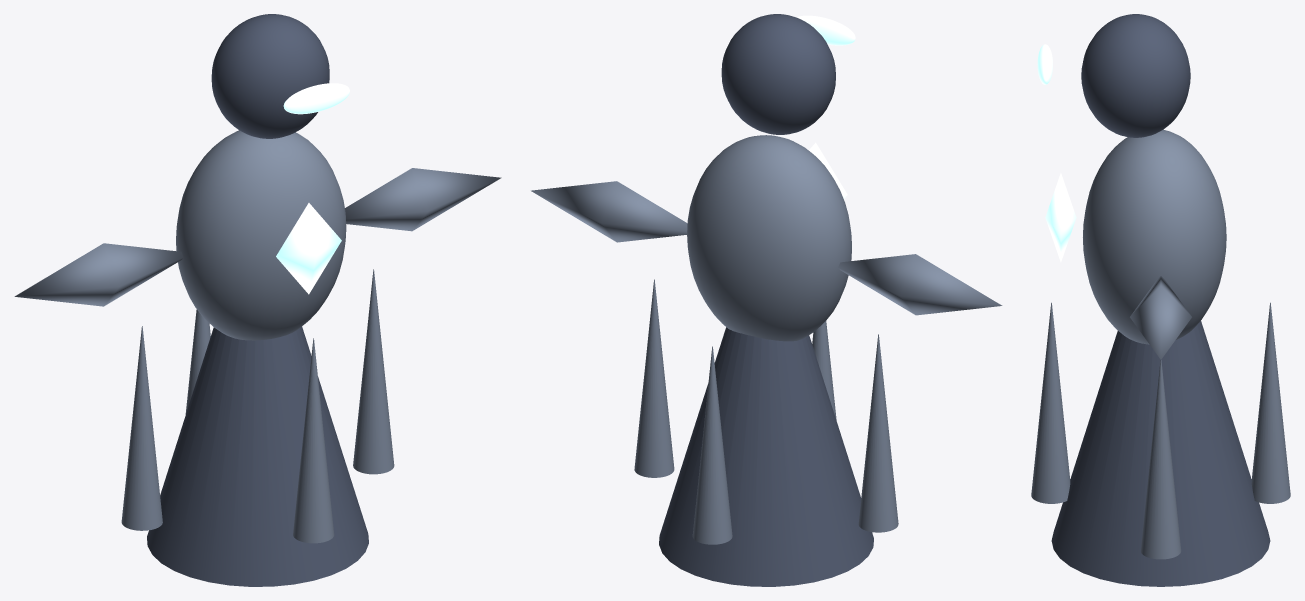
File: shadow-creature.glb
3 renders of one model, left to right at view 1: azimuth 30°, elevation 25°; view 2: azimuth 150°, elevation 25°; view 3: azimuth 270°, elevation 25°, orthographic. The views are drawn at different scales.
Parts seen in each view (by area): view 1: shroud, torso, head, tendril-1, tendril1, SpectralTendril0, SpectralTendril2, SpectralTendril1, SoulCore, eyes, SpectralTendril3; view 2: shroud, torso, head, tendril-1, tendril1, SpectralTendril2, SpectralTendril3, SpectralTendril0, SpectralTendril1, eyes; view 3: shroud, torso, head, SpectralTendril0, SpectralTendril1, SpectralTendril3, tendril1, SoulCore, eyes.
Boxes of the visible parts, bbox=[...] form: shroud: bbox=[147, 326, 368, 586]; torso: bbox=[176, 130, 346, 340]; head: bbox=[211, 14, 329, 138]; tendril-1: bbox=[14, 243, 183, 306]; tendril1: bbox=[345, 168, 501, 231]; SpectralTendril0: bbox=[353, 269, 394, 474]; SpectralTendril2: bbox=[121, 326, 162, 530]; SpectralTendril1: bbox=[293, 338, 334, 543]; SoulCore: bbox=[276, 203, 341, 294]; eyes: bbox=[283, 83, 349, 114]; SpectralTendril3: bbox=[185, 309, 210, 414]; shroud: bbox=[659, 327, 873, 586]; torso: bbox=[687, 135, 851, 341]; head: bbox=[721, 14, 835, 134]; tendril-1: bbox=[838, 254, 1002, 315]; tendril1: bbox=[531, 181, 687, 242]; SpectralTendril2: bbox=[858, 334, 898, 532]; SpectralTendril3: bbox=[692, 346, 732, 544]; SpectralTendril0: bbox=[634, 279, 674, 477]; SpectralTendril1: bbox=[812, 321, 836, 420]; eyes: bbox=[796, 15, 855, 45]; shroud: bbox=[1051, 321, 1270, 586]; torso: bbox=[1083, 130, 1226, 344]; head: bbox=[1081, 14, 1190, 137]; SpectralTendril0: bbox=[1140, 360, 1181, 559]; SpectralTendril1: bbox=[1031, 302, 1070, 503]; SpectralTendril3: bbox=[1251, 302, 1290, 503]; tendril1: bbox=[1130, 276, 1191, 359]; SoulCore: bbox=[1045, 173, 1076, 262]; eyes: bbox=[1037, 44, 1052, 84].
Size of the model in its own units: 1.77 by 1.84 by 0.83.
